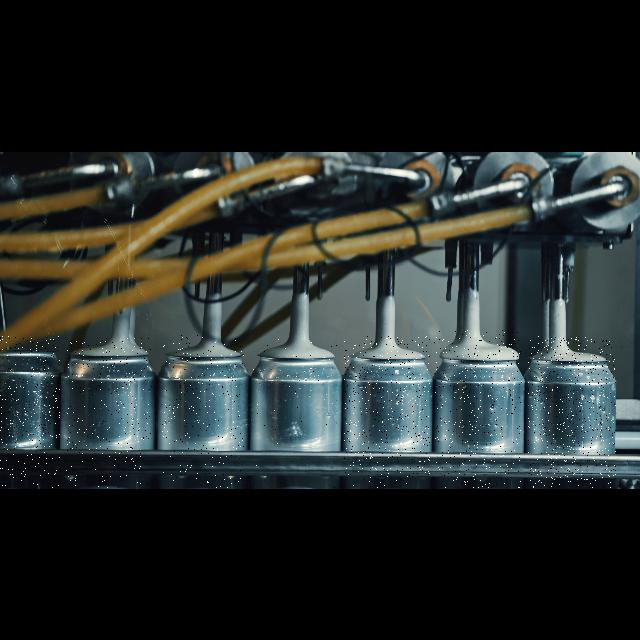empty: (0, 336, 60, 488)
full: (434, 330, 522, 488), (528, 336, 616, 488), (344, 336, 430, 488), (66, 338, 152, 488), (253, 336, 337, 488), (162, 334, 244, 488)
